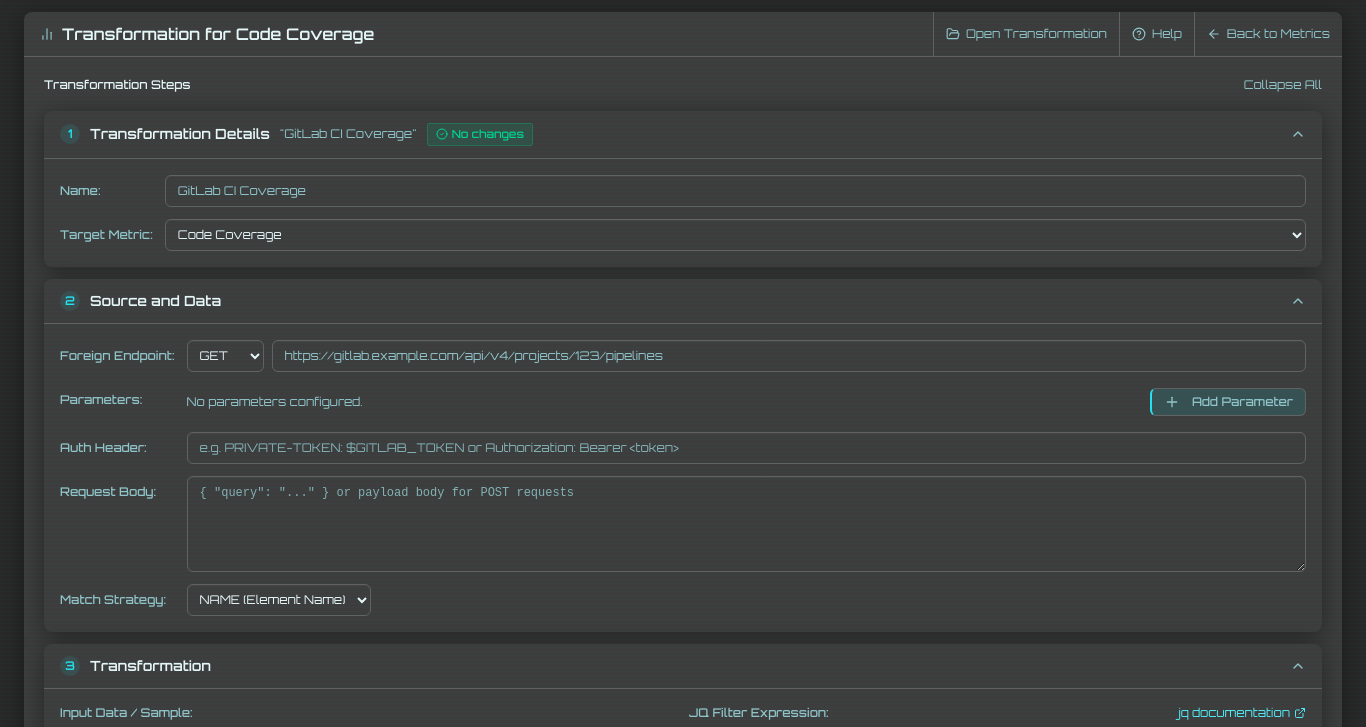
Test: MetricPushView (Subpage) › opens Help modal on Help button click and displays explanations
Click the button "Help" at (1156, 34), box left=1119, top=12, right=1194, bottom=56
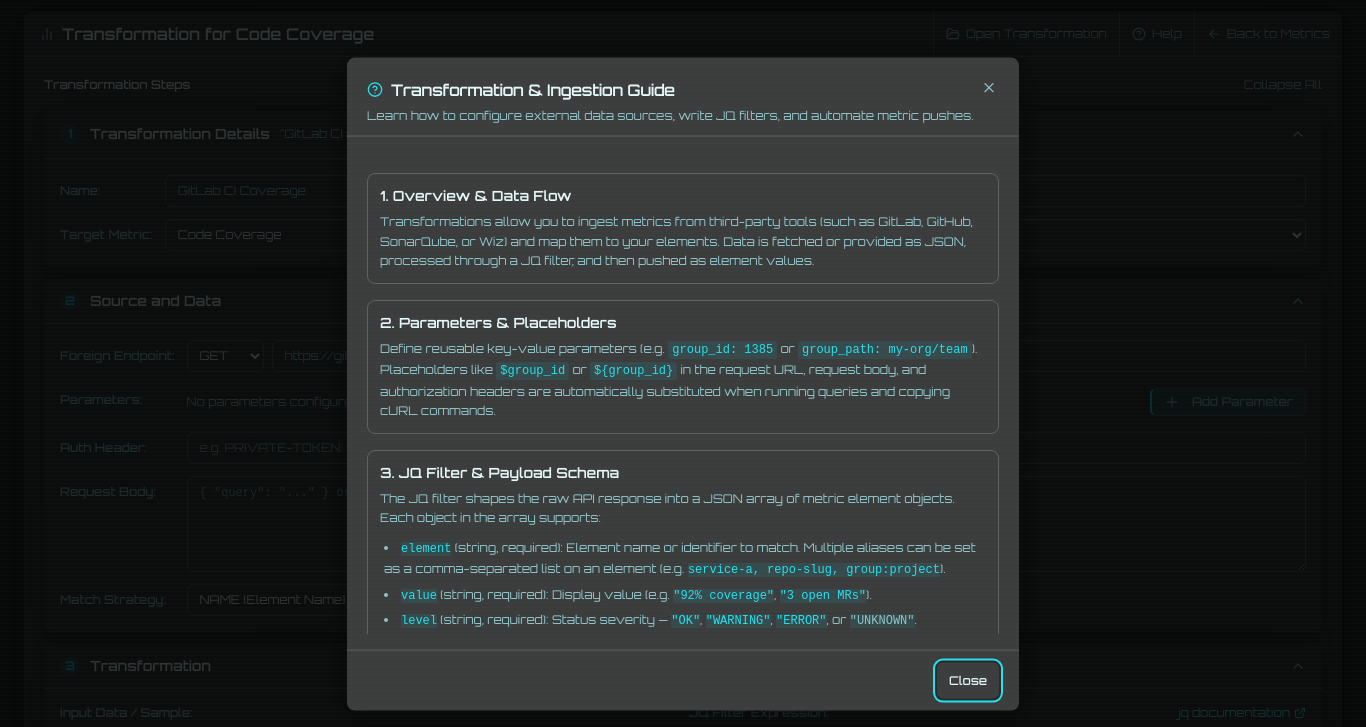
Result: the heading "Transformation & Ingestion Guide" is shown at left=367, top=80, right=675, bottom=100
Result: the heading "1. Overview & Data Flow" is shown at left=380, top=187, right=572, bottom=204
Result: the heading "2. Parameters & Placeholders" is shown at left=380, top=313, right=617, bottom=330
Close button dismisses modal
Click the button "Close" at (968, 680), box left=937, top=662, right=999, bottom=698
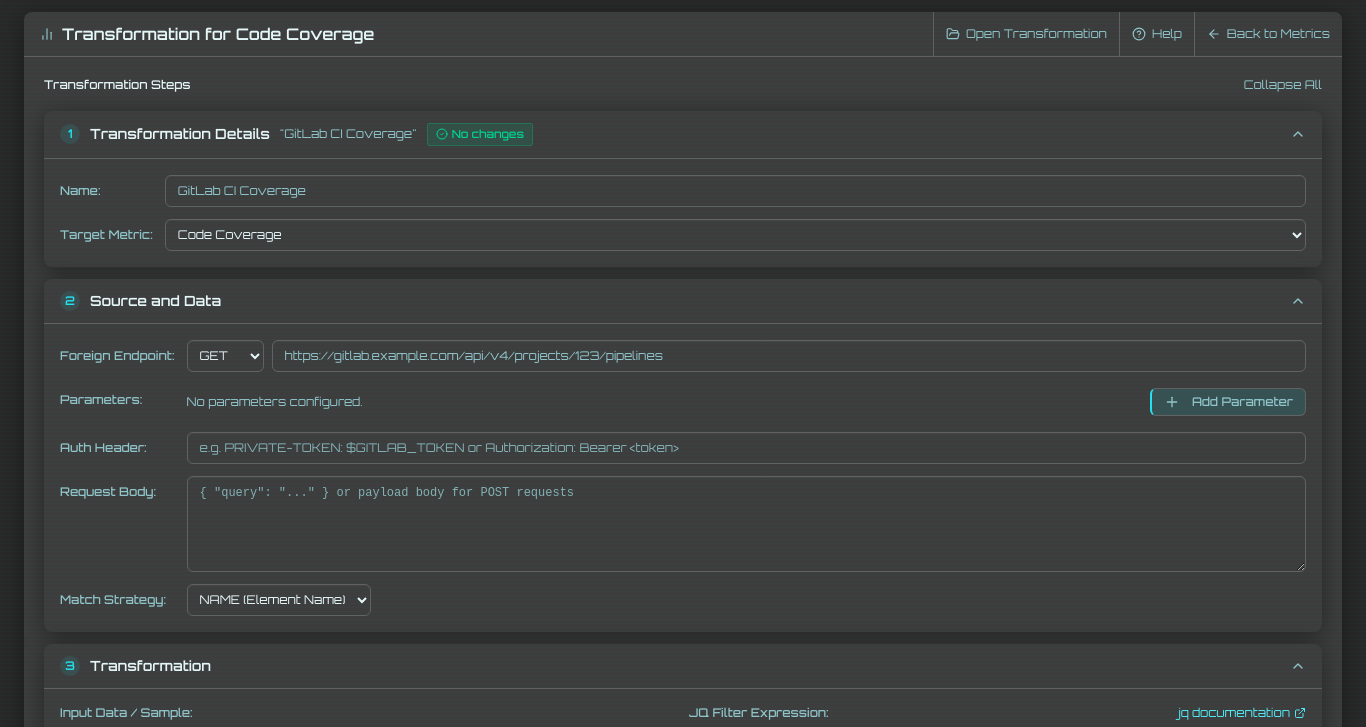
Result: the heading "Transformation & Ingestion Guide" is gone
